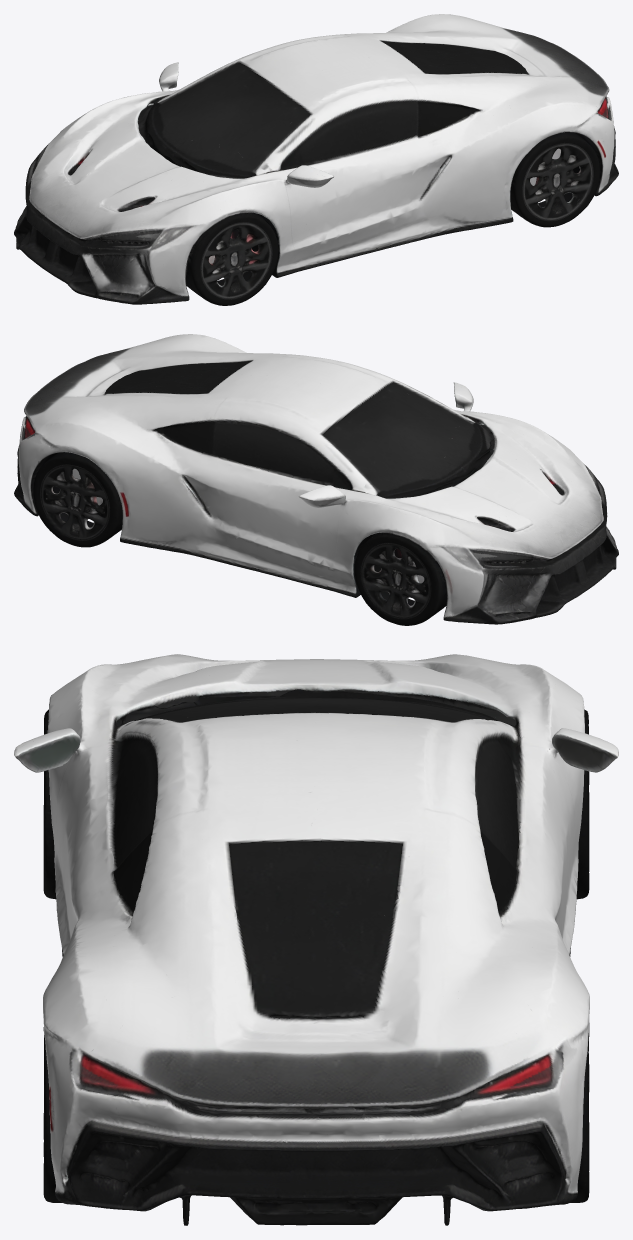
Rendered from kaze-r01.glb.
The picture shows the model from 3 angles, top to bottom: view 1: azimuth 30°, elevation 25°; view 2: azimuth 150°, elevation 25°; view 3: azimuth 270°, elevation 25°; orthographic projection. The views are drawn at different scales.
Size of the model in its own units: 1.9 by 0.5052 by 0.943.
1 material, 1 textured.
